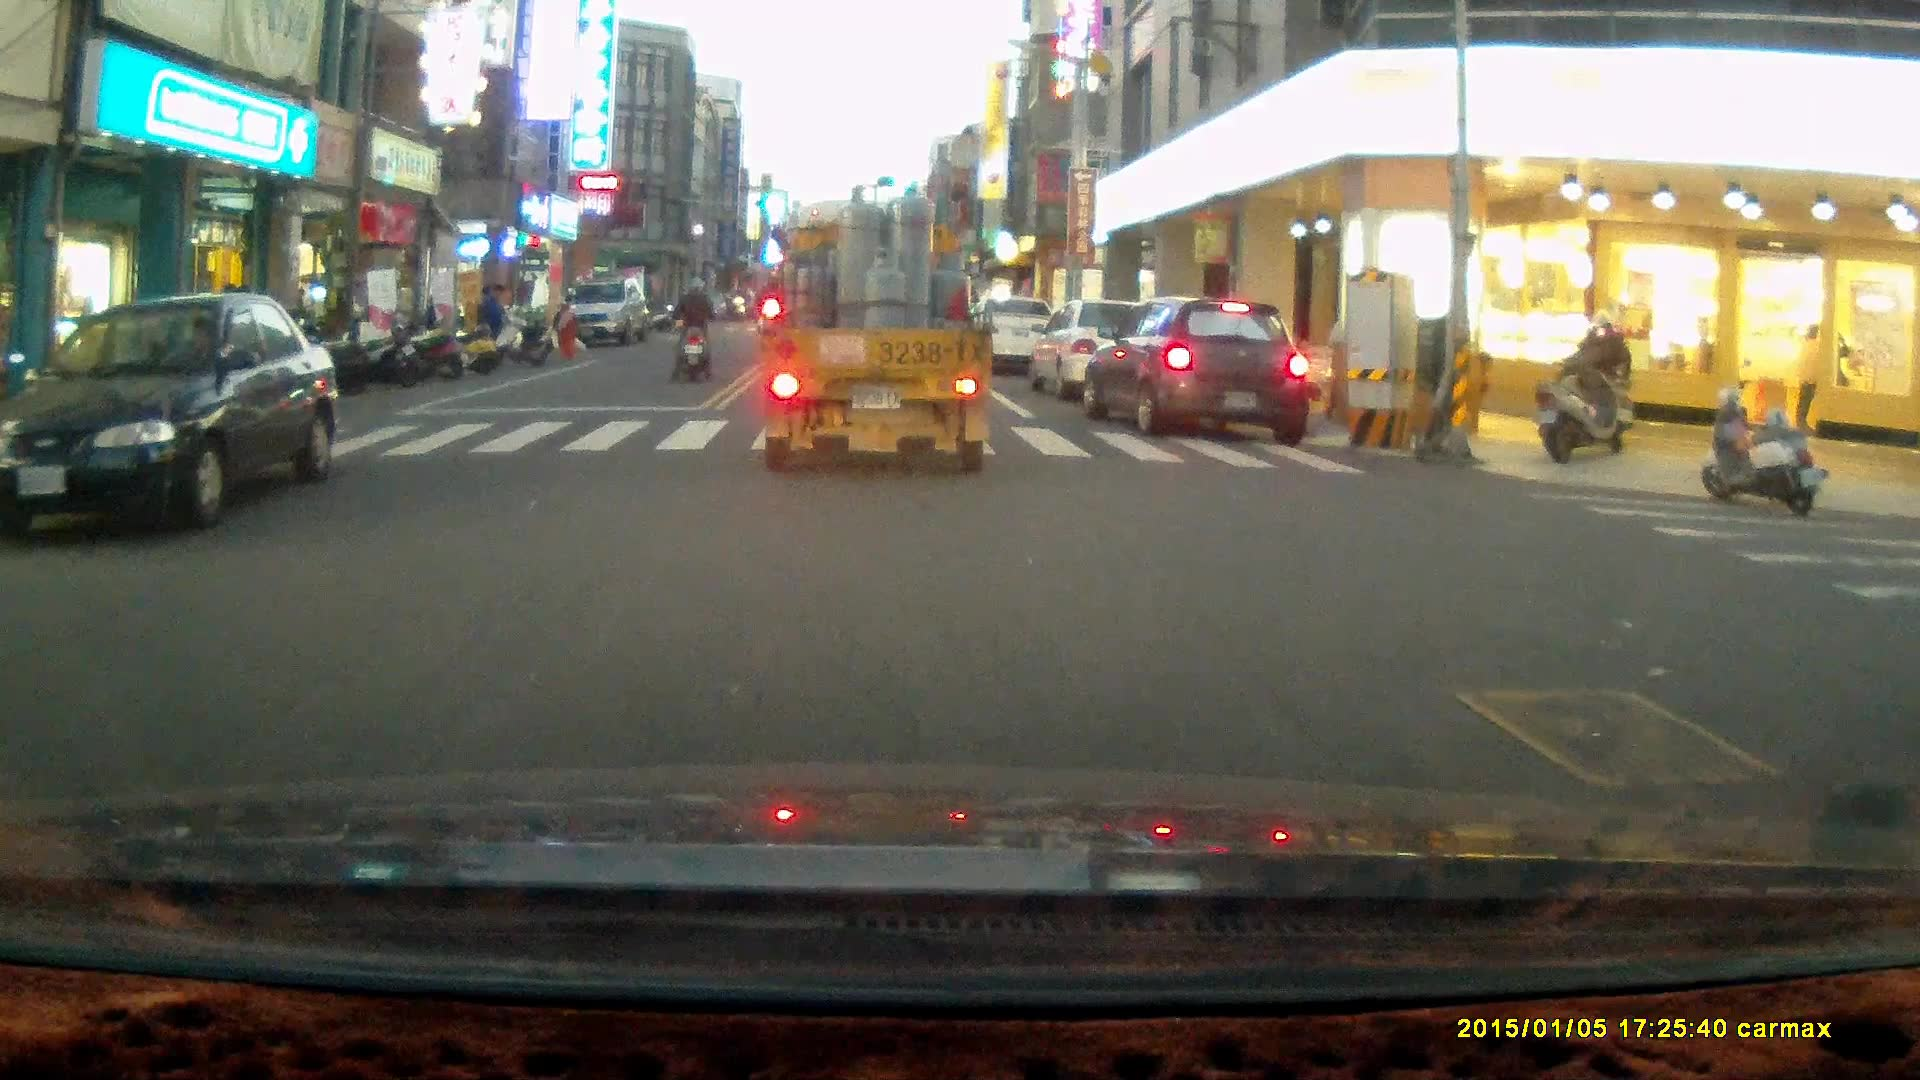pedestrian: (476, 282, 510, 364), (553, 292, 579, 363)
rider: (1540, 309, 1630, 453), (665, 277, 713, 386)
vehicle: (1, 290, 346, 541), (762, 183, 997, 479), (1086, 295, 1315, 443), (1034, 303, 1188, 407), (966, 296, 1062, 375), (568, 282, 658, 351)
